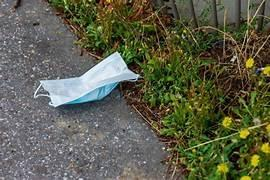Mask: (34, 52, 138, 106)
